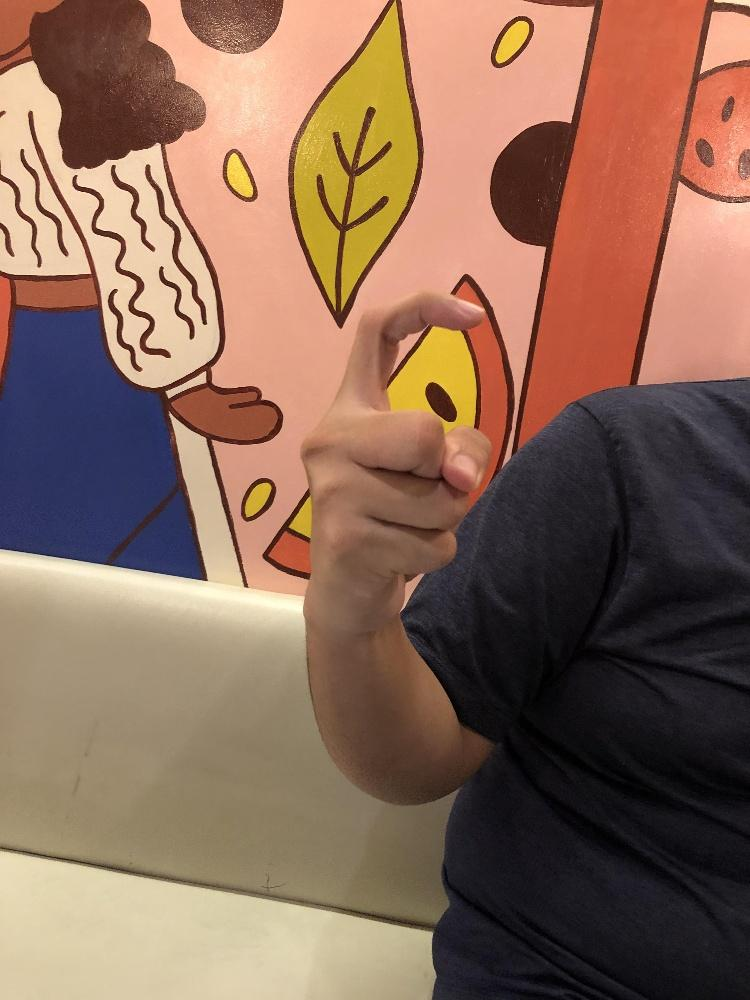x: (298, 286, 494, 627)
